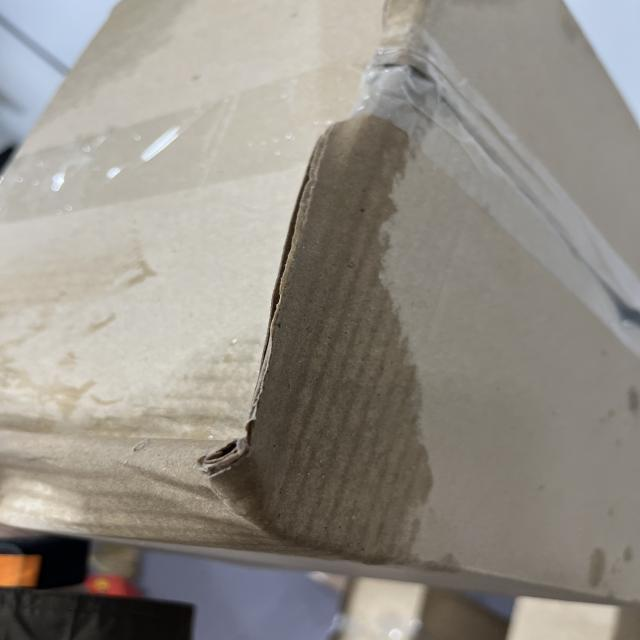wet: (185, 135, 465, 555)
